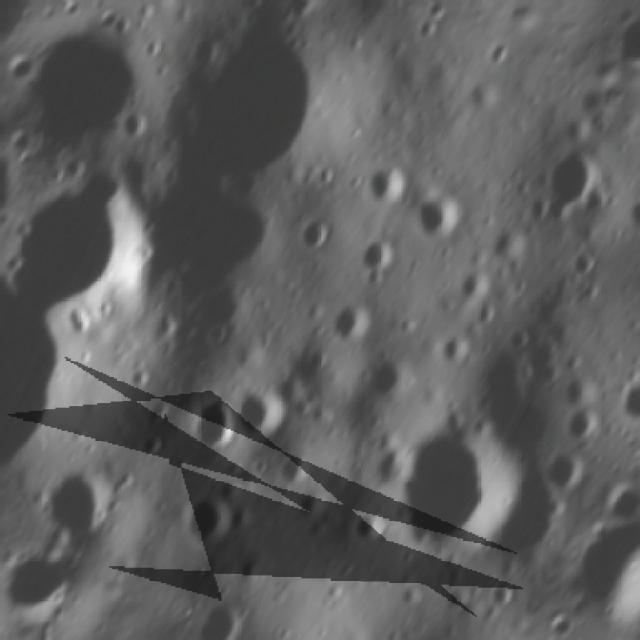crater: (145, 0, 362, 215), (0, 158, 169, 348), (374, 398, 540, 570), (0, 292, 100, 514), (468, 468, 586, 594), (30, 455, 124, 551), (529, 137, 613, 228), (178, 385, 252, 466), (218, 378, 294, 456), (398, 179, 472, 252), (344, 221, 410, 294), (175, 487, 242, 558), (353, 349, 418, 418), (358, 428, 422, 497), (532, 440, 594, 500), (324, 295, 376, 350), (357, 157, 409, 212), (342, 501, 392, 556), (554, 399, 603, 450), (200, 594, 252, 638), (452, 263, 498, 311), (433, 330, 479, 376), (486, 226, 532, 272), (111, 104, 154, 150), (606, 368, 640, 426), (290, 216, 332, 256), (563, 90, 609, 125), (614, 188, 640, 242), (563, 247, 599, 285), (432, 637, 486, 640)
